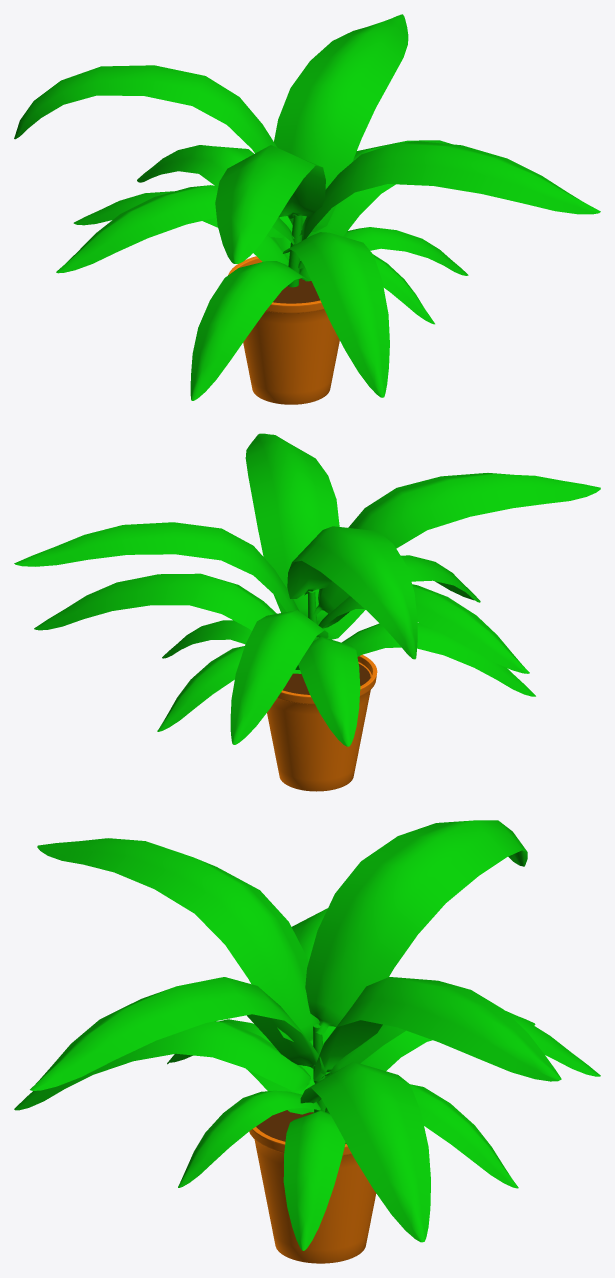
The model's file is flowerpot.obj.
3 views of the same model, one above another, from view 1: azimuth 30°, elevation 25°; view 2: azimuth 150°, elevation 25°; view 3: azimuth 270°, elevation 25° (orthographic). The views are drawn at different scales.
Parts seen in each view (by area): view 1: Cylinder.002_Cylinder.006_M_flower, Cylinder.002_Cylinder.006_M_pot, Cylinder.002_Cylinder.006_M_pot.001; view 2: Cylinder.002_Cylinder.006_M_flower, Cylinder.002_Cylinder.006_M_pot, Cylinder.002_Cylinder.006_M_pot.001; view 3: Cylinder.002_Cylinder.006_M_flower, Cylinder.002_Cylinder.006_M_pot, Cylinder.002_Cylinder.006_M_pot.001.
Boxes of the visible parts, x1=… form: Cylinder.002_Cylinder.006_M_flower: x1=14, y1=14, x2=600, y2=400; Cylinder.002_Cylinder.006_M_pot: x1=228, y1=256, x2=339, y2=404; Cylinder.002_Cylinder.006_M_pot.001: x1=273, y1=278, x2=319, y2=303; Cylinder.002_Cylinder.006_M_flower: x1=14, y1=433, x2=600, y2=746; Cylinder.002_Cylinder.006_M_pot: x1=267, y1=654, x2=377, y2=791; Cylinder.002_Cylinder.006_M_pot.001: x1=283, y1=664, x2=370, y2=694; Cylinder.002_Cylinder.006_M_flower: x1=14, y1=820, x2=600, y2=1250; Cylinder.002_Cylinder.006_M_pot: x1=249, y1=1127, x2=376, y2=1263; Cylinder.002_Cylinder.006_M_pot.001: x1=256, y1=1110, x2=346, y2=1143.
Size of the model in its own units: 919 by 559 by 832.
